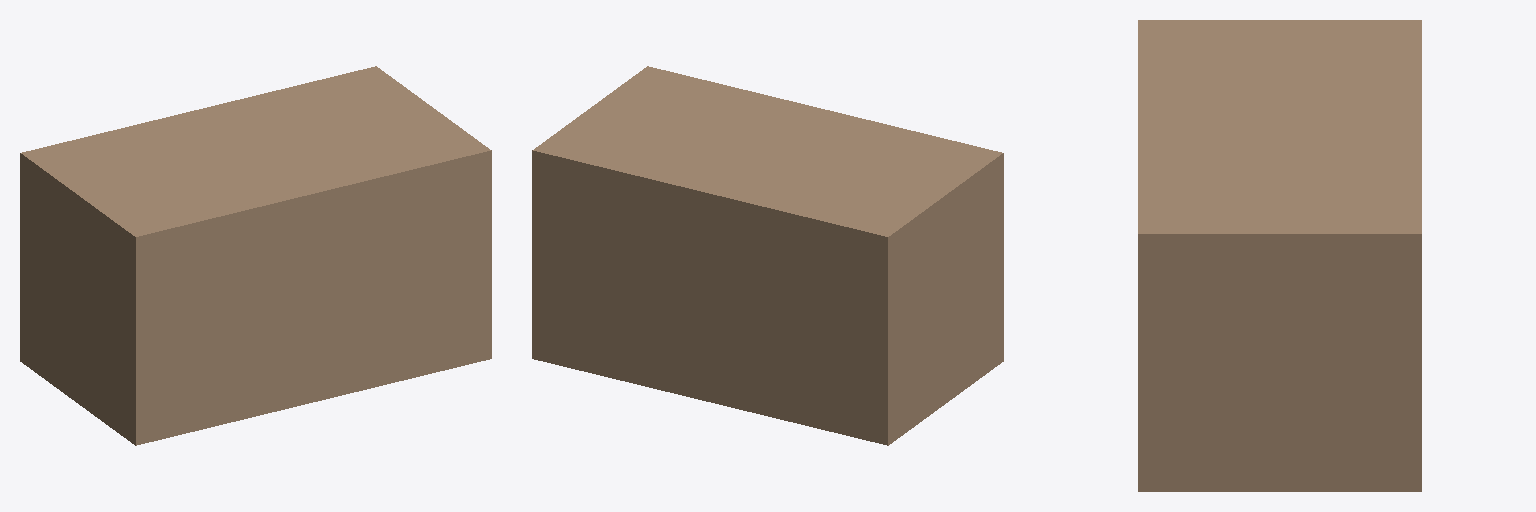
The robot description file, URDF, robot "box.urdf":
<?xml version="1.0" ?>
<robot name="box.urdf">
  <link name="baseLink">
    <contact>
      <lateral_friction value="1.0"/>
      <rolling_friction value="0.0001"/>
      <inertia_scaling value="3.0"/>
    </contact>
    <inertial>
      <origin rpy="0 0 0" xyz="0 0 0"/>
       <mass value="0.1"/>
       <inertia ixx="1" ixy="0" ixz="0" iyy="1" iyz="0" izz="1"/>
    </inertial>
    <visual>
      <origin rpy="0 0 0" xyz="0 0 0"/>
      <geometry>
        <!-- <box size="0.35700000000000004 0.2 0.2"/> -->
        <mesh filename="box/box.obj" scale="0.35700000000000004 0.2 0.2"/>
      </geometry>
      <material name="white">
        <color rgba="0.7 0.6 0.5 1"/>
      </material>
    </visual>
    <collision>
      <origin rpy="0 0 0" xyz="0 0 0"/>
      <geometry>
        <mesh filename="box/box.obj" scale="0.35700000000000004 0.2 0.2"/>
	 	    <!-- <box size="0.35700000000000004 0.2 0.2"/> -->
      </geometry>
    </collision>
  </link>
</robot>

--- What the picture shows (computed from the rendered views, not written in the file) ---
3 views of the same robot in one strip: view 1: azimuth 30°, elevation 25°; view 2: azimuth 150°, elevation 25°; view 3: azimuth 270°, elevation 25° (orthographic).
Robot: box.urdf — 1 links, 0 joints (none); root link baseLink; default pose: all joints at 0.
Visible links, largest first — view 1: baseLink; view 2: baseLink; view 3: baseLink.
Boxes of the visible links, bbox=[...] form: baseLink: bbox=[20, 66, 491, 445]; baseLink: bbox=[532, 66, 1003, 445]; baseLink: bbox=[1138, 20, 1421, 491].
Bounding box of the posed robot: 0.357 × 0.2 × 0.2 m (x, y, z).
Meshes: 1 distinct files referenced, 1 mesh visuals loaded (1 OBJ).
